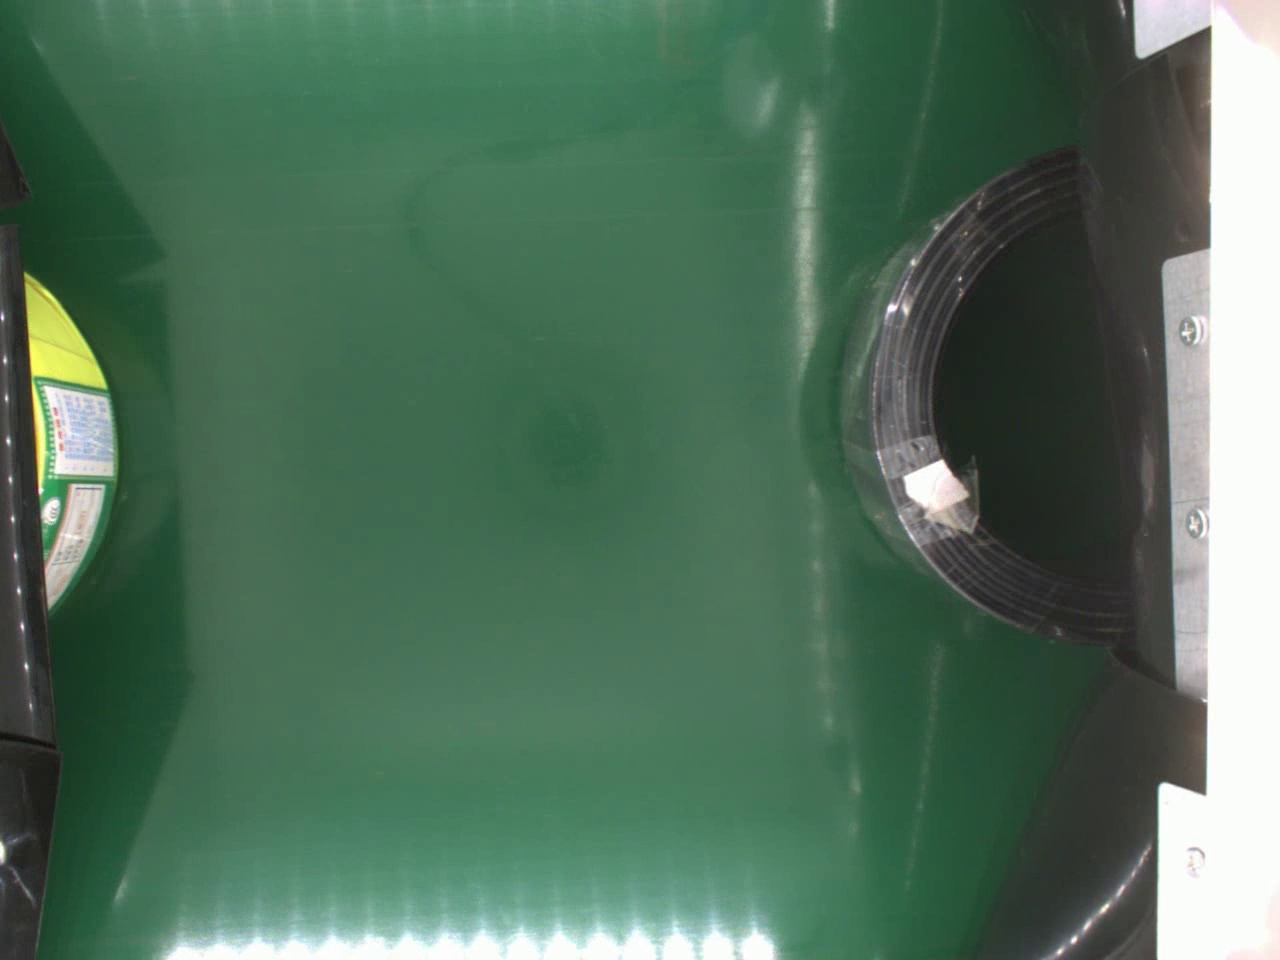black: (838, 144, 1136, 646)
